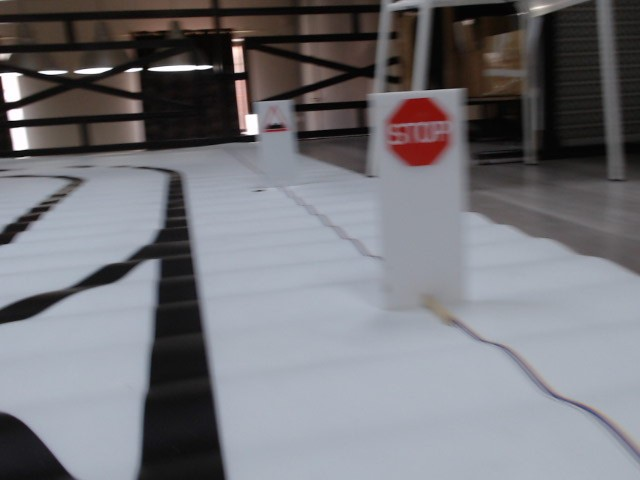Nerov: (262, 108, 287, 136)
Stop: (387, 97, 454, 166)
